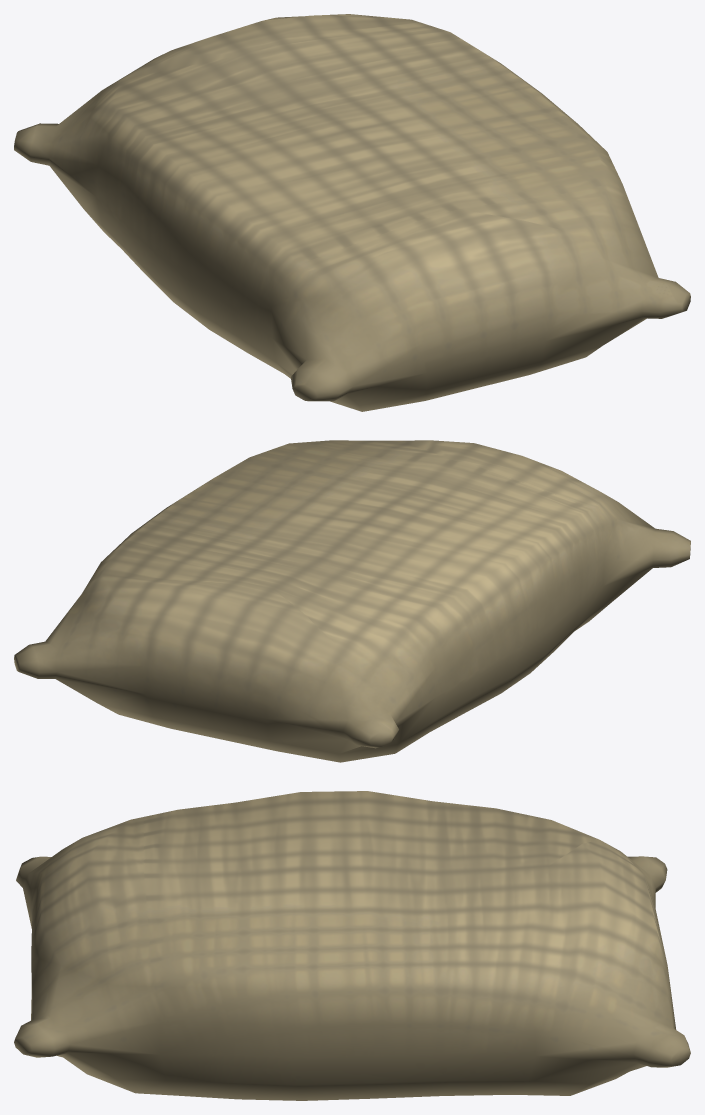
Rendered from Model_TexturaSacoQuadrado_v1.fbx.
The picture shows the model from 3 angles, top to bottom: view 1: azimuth 30°, elevation 25°; view 2: azimuth 150°, elevation 25°; view 3: azimuth 270°, elevation 25°; orthographic projection. The views are drawn at different scales.
Parts seen in each view (by area): view 1: Plane.001; view 2: Plane.001; view 3: Plane.001.
Boxes of the visible parts, x1,y1,x2,y2 form: Plane.001: (14,14,690,411); Plane.001: (14,440,690,762); Plane.001: (14,791,690,1100).
Size of the model in its own units: 246 by 86.33 by 337.
